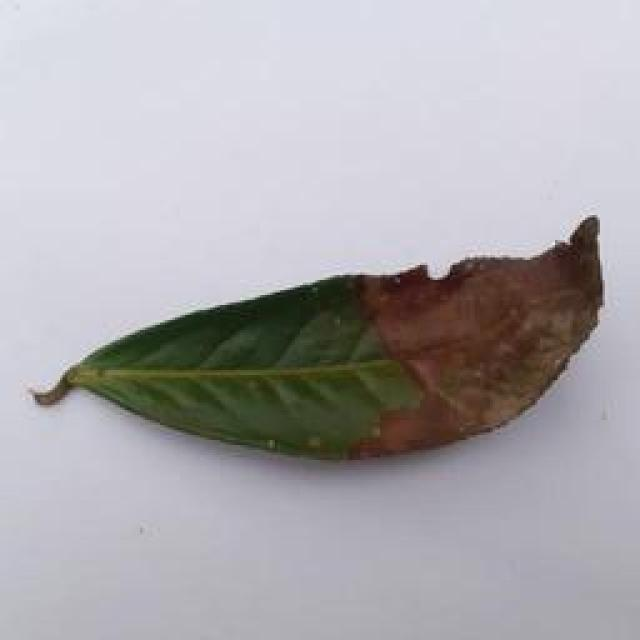Brown Blight: (38, 206, 622, 482)
